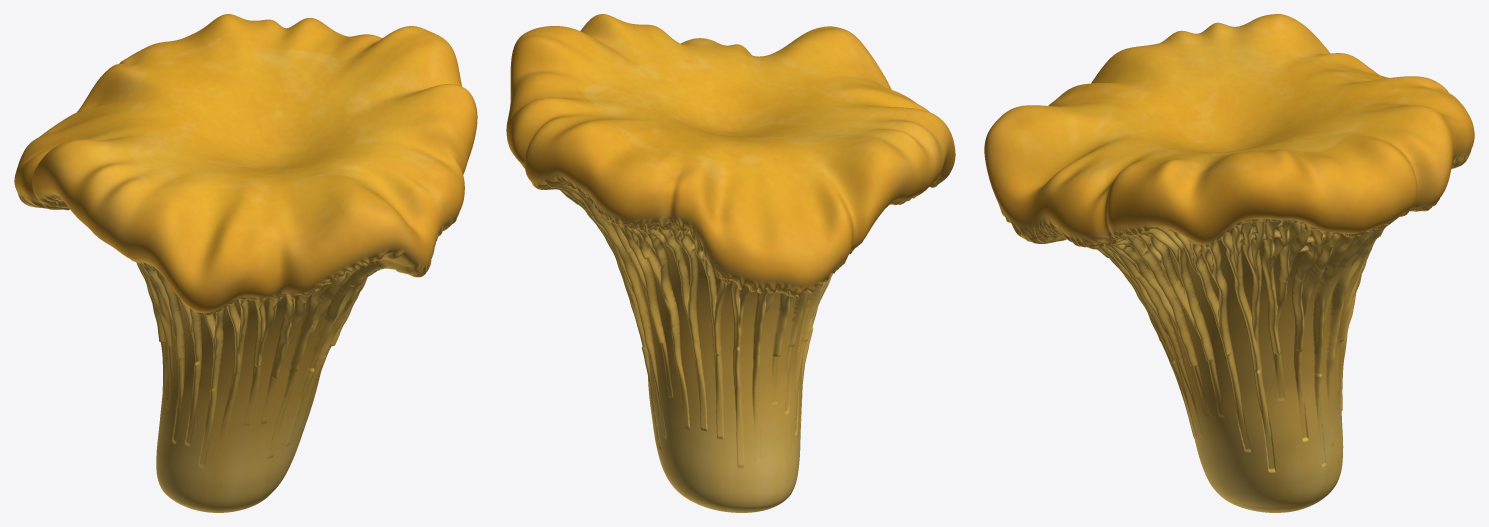
The model's file is cantharellus-cibarius.glb.
The picture shows the model from 3 angles, left to right: view 1: azimuth 30°, elevation 25°; view 2: azimuth 150°, elevation 25°; view 3: azimuth 270°, elevation 25°; orthographic projection. The views are drawn at different scales.
Visible parts, largest first — view 1: body; view 2: body; view 3: body.
Boxes of the visible parts, <box> form: body: <box>14,14,477,512</box>; body: <box>506,14,955,512</box>; body: <box>984,14,1474,512</box>.
Size of the model in its own units: 0.0813 by 0.0836 by 0.0838.
1 material, 1 textured.
